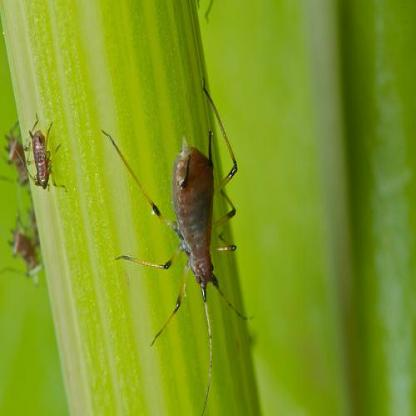aphid: (124, 93, 244, 358), (19, 113, 62, 190), (5, 208, 43, 275), (2, 108, 30, 180)
